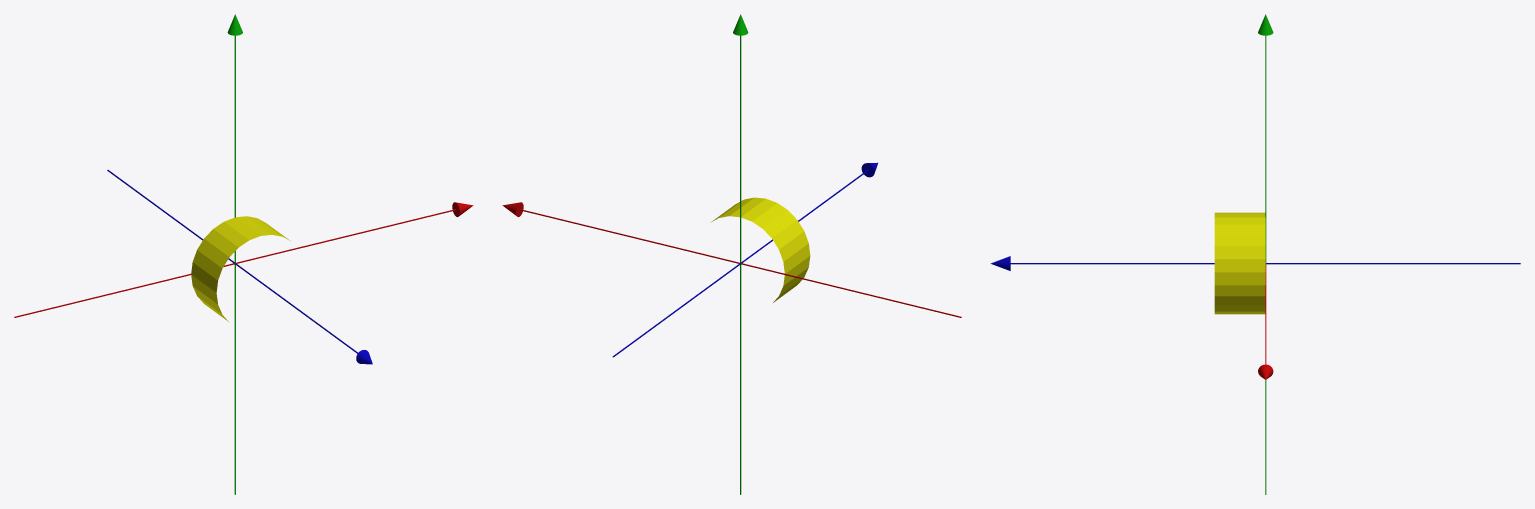
File: Cilindro.glb
3 views of the same model, side by side, from view 1: azimuth 30°, elevation 25°; view 2: azimuth 150°, elevation 25°; view 3: azimuth 270°, elevation 25° (orthographic).
Parts seen in each view (by area): view 1: world; view 2: world; view 3: world.
Part boxes in pixels (box(x1,y1,x2,y2)): world: box(14, 14, 473, 494); world: box(502, 14, 961, 494); world: box(990, 14, 1520, 494).
Size of the model in its own units: 10.4 by 10.4 by 10.4.
